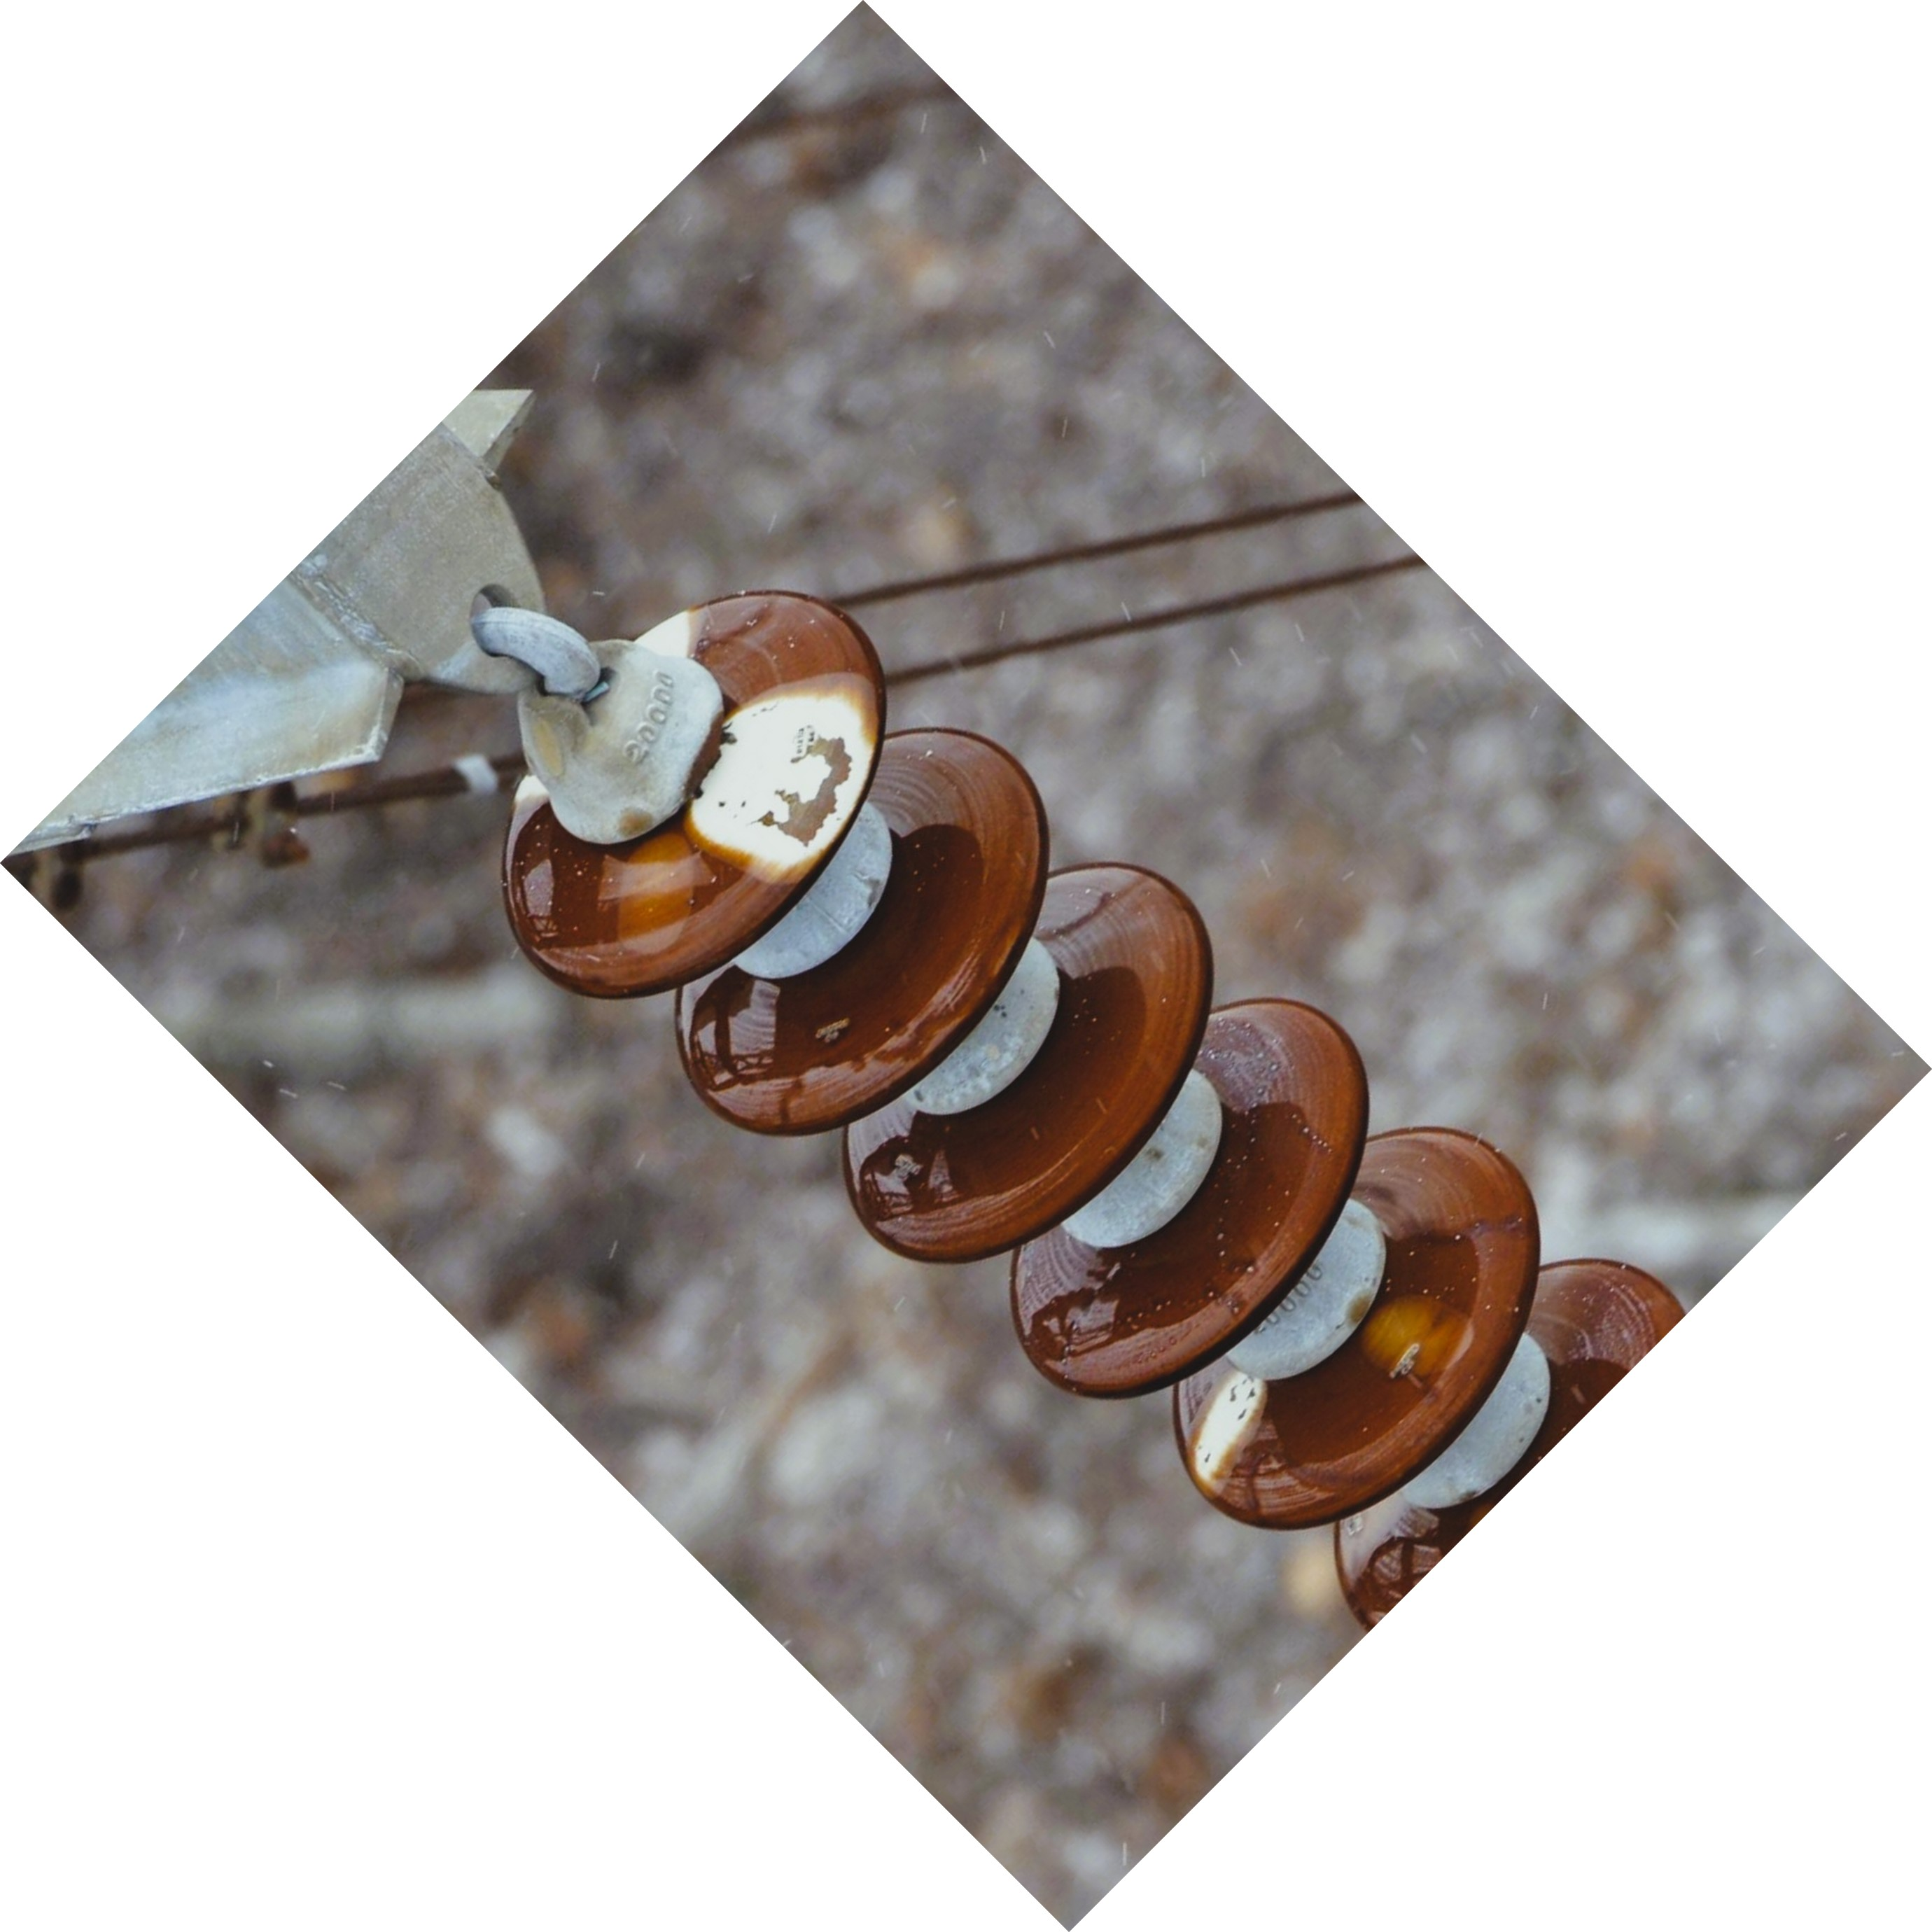Insulator flashover: (460, 584, 902, 1012)
